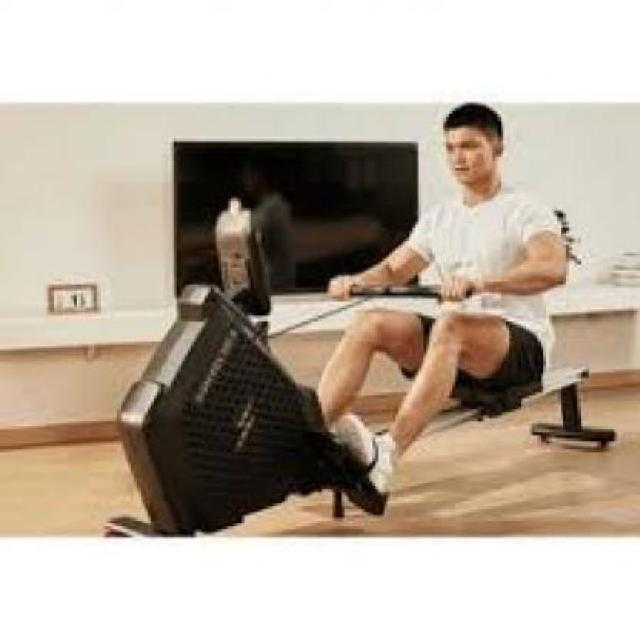Seated Cable Rows: (97, 61, 612, 574)
